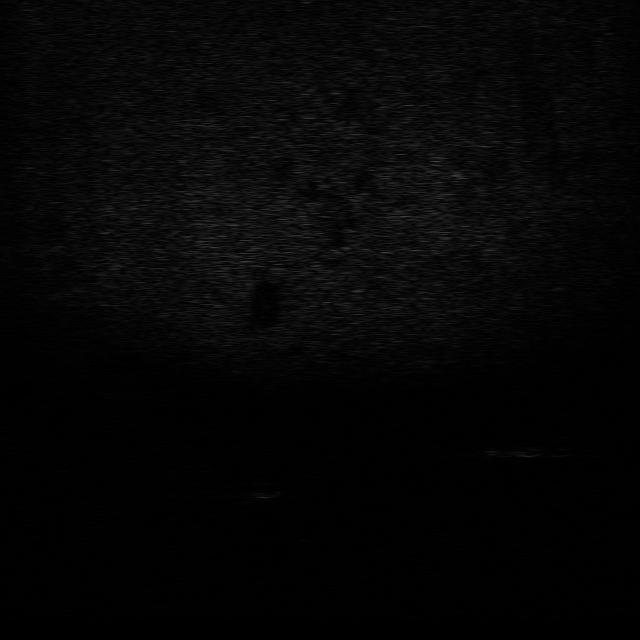ball: (242, 477, 284, 501)
human body: (475, 430, 571, 462)
